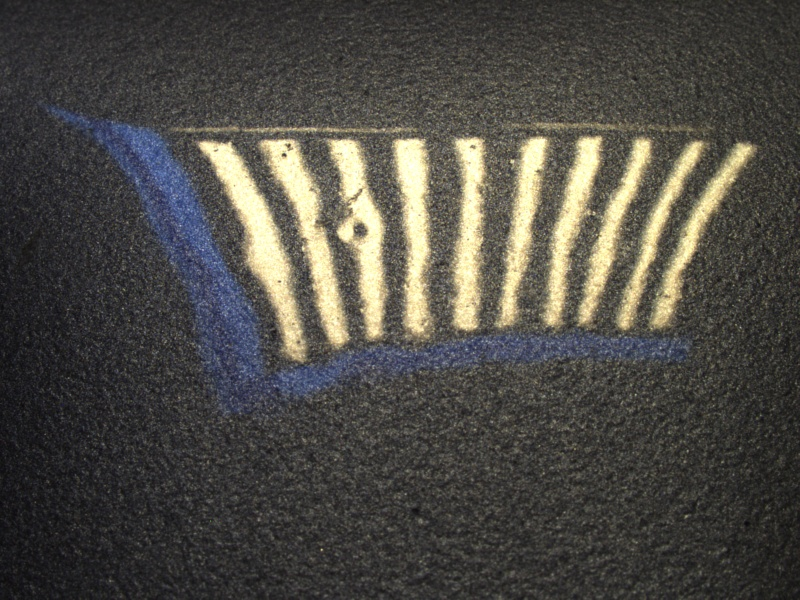bad: (329, 209, 382, 249)
